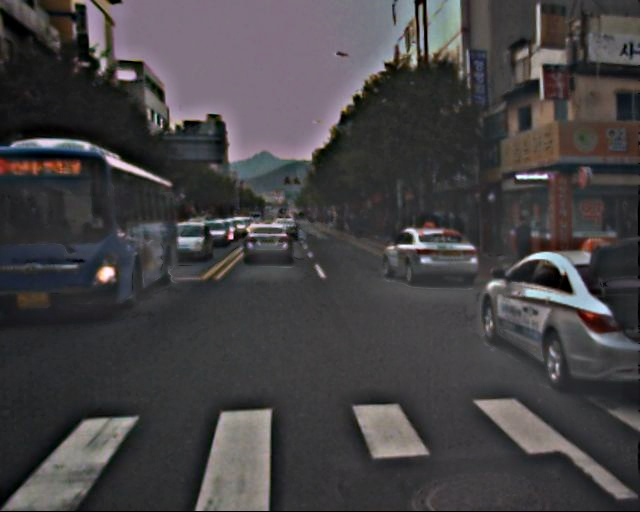person: (512, 217, 538, 277)
